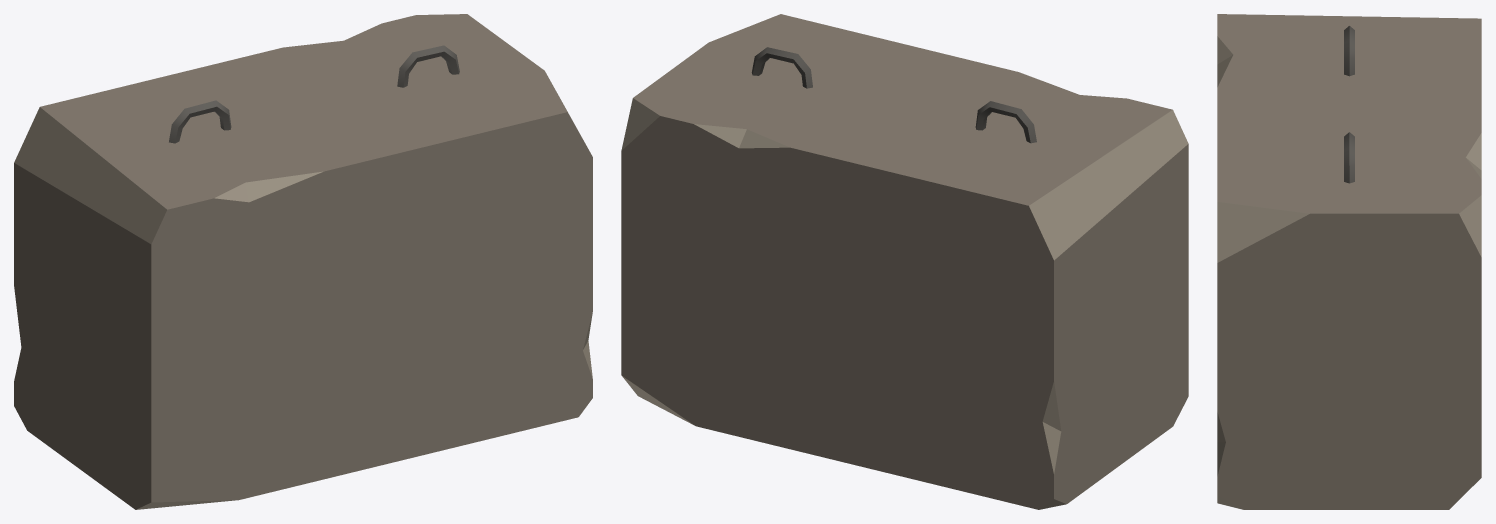
File: SM_Prop_Concrete_Slab_02.fbx
3 renders of one model, left to right at view 1: azimuth 30°, elevation 25°; view 2: azimuth 150°, elevation 25°; view 3: azimuth 270°, elevation 25°, orthographic. The views are drawn at different scales.
Visible parts, largest first — view 1: SM_Prop_Concrete_Slab_02; view 2: SM_Prop_Concrete_Slab_02; view 3: SM_Prop_Concrete_Slab_02.
Boxes of the visible parts, x1=… form: SM_Prop_Concrete_Slab_02: x1=14, y1=14, x2=592, y2=509; SM_Prop_Concrete_Slab_02: x1=621, y1=14, x2=1188, y2=509; SM_Prop_Concrete_Slab_02: x1=1217, y1=14, x2=1481, y2=509.
Size of the model in its own units: 150 by 110 by 80.76.
